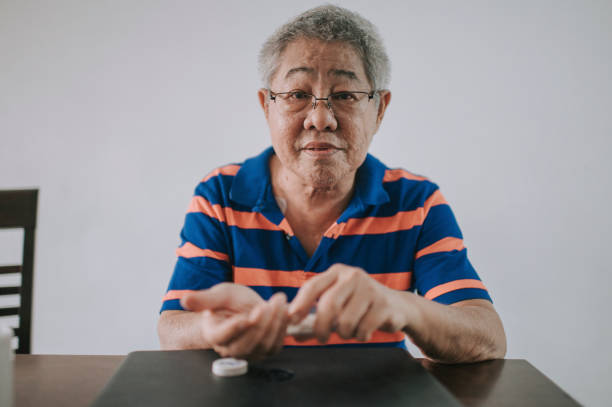face: (270, 57, 373, 183)
